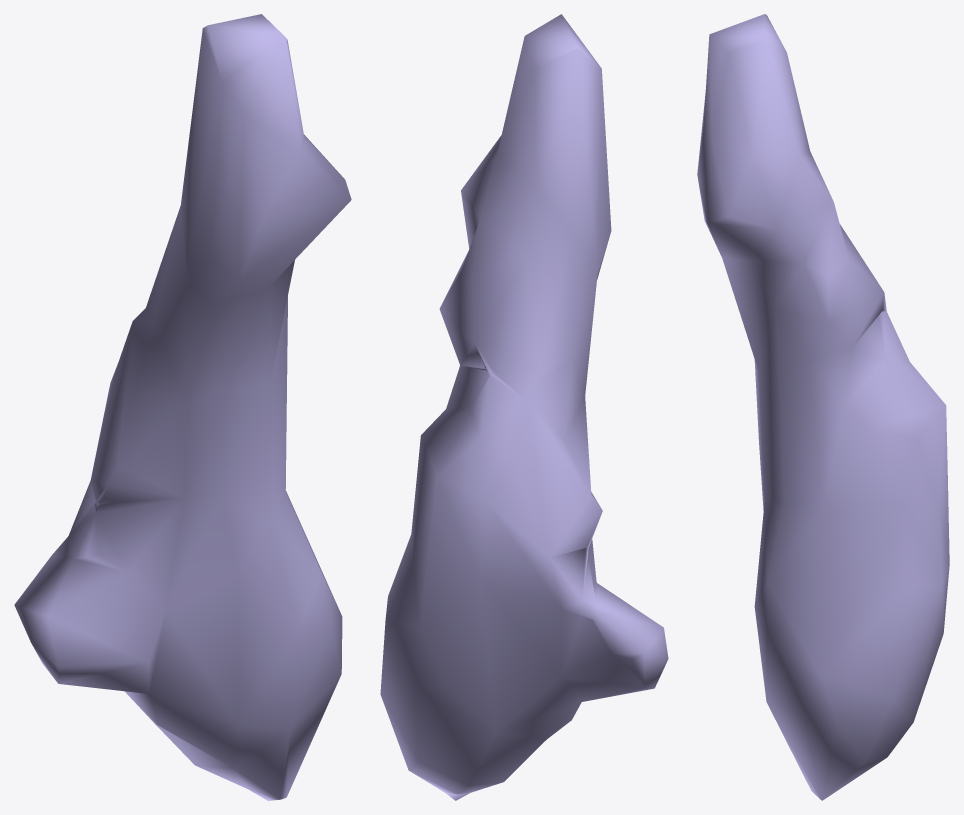
The model's file is MigrationRock4.fbx.
3 views of the same model, side by side, from view 1: azimuth 30°, elevation 25°; view 2: azimuth 150°, elevation 25°; view 3: azimuth 270°, elevation 25° (orthographic). The views are drawn at different scales.
Visible parts, largest first — view 1: WeirdRocks.003; view 2: WeirdRocks.003; view 3: WeirdRocks.003.
Boxes of the visible parts, x1,y1,x2,y2 form: WeirdRocks.003: (14,14,351,800); WeirdRocks.003: (380,14,668,800); WeirdRocks.003: (697,14,949,800).
Size of the model in its own units: 2093 by 5399 by 1668.
